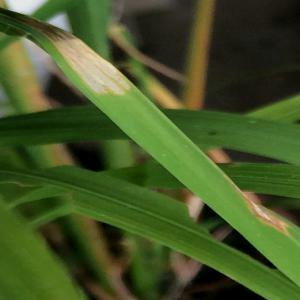1 RiceBlast: (240, 188, 286, 243)
